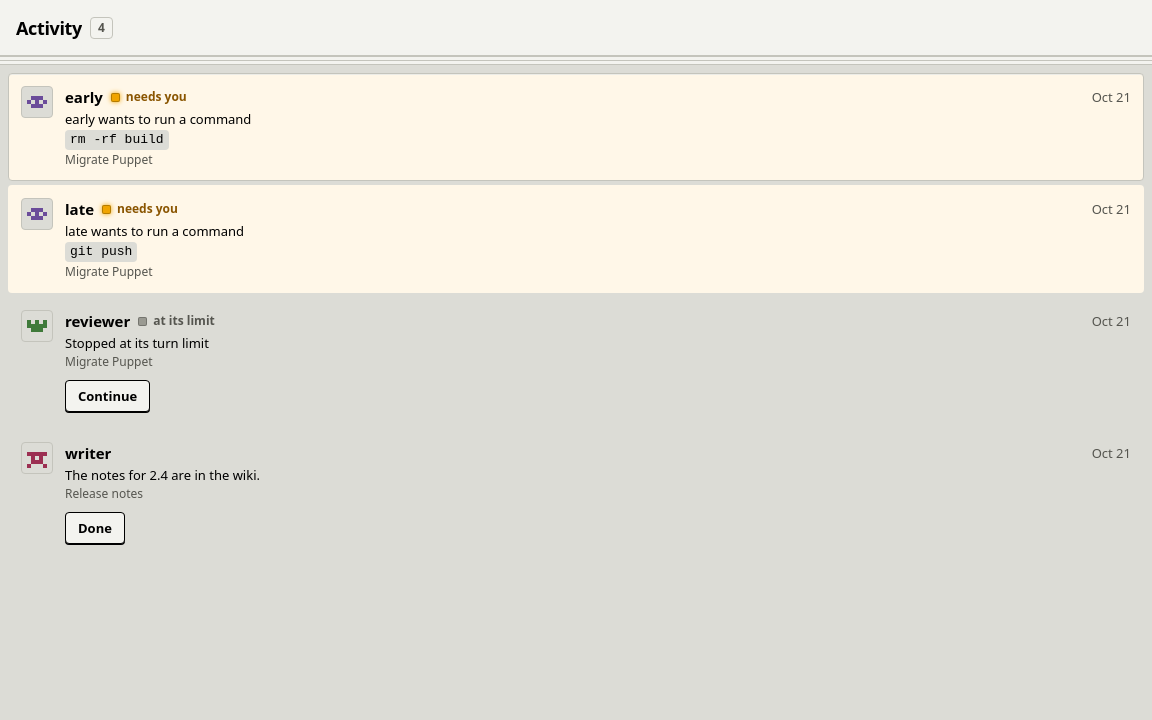
Test: a seat at its limit in Activity › says at its limit, not error, with the limit, and Continue goes on with the same run
Expected: the text with class "status-word" reads "at its limit", x1=153 y1=312 x2=215 y2=329
Expected: the text with class "inbox-text" reads "Stopped at its turn limit", x1=65 y1=334 x2=209 y2=352
Click the button with class "seat-again".
click(108, 396)  # box x1=65 y1=380 x2=150 y2=412
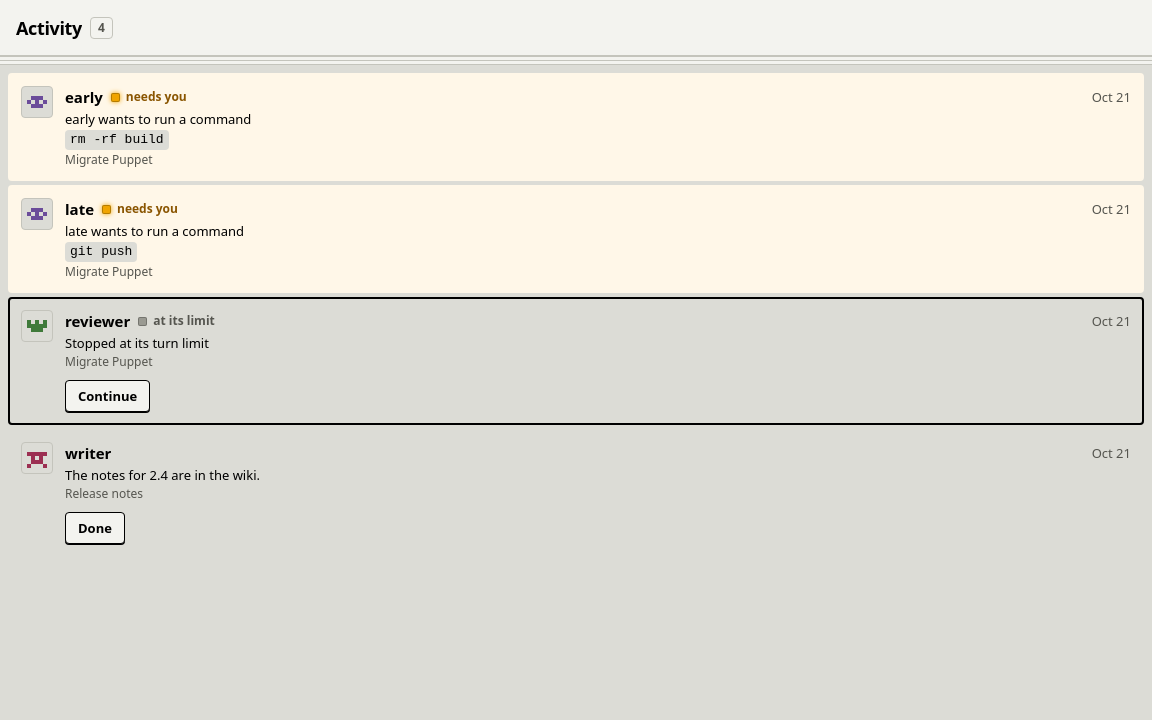
Press c in the element with class "inbox-row" that starts with "reviewer", box x1=8 y1=297 x2=1144 y2=425
(page scrolled)
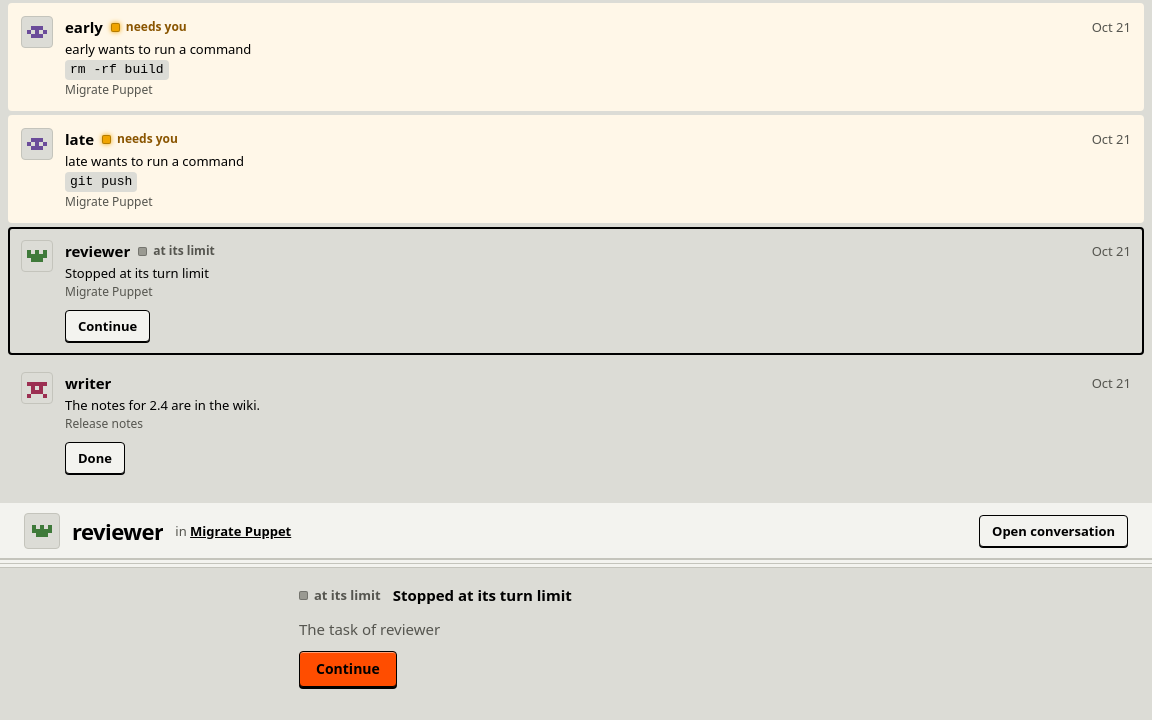
Expected: the 2nd text with class "status-word" reads "at its limit", x1=314 y1=586 x2=381 y2=604
Expected: the text with class "inbox-reason" reads "Stopped at its turn limit", x1=393 y1=585 x2=572 y2=605
Expected: the button with class "seat-again" below "The task of reviewer" reads "Continue", x1=299 y1=651 x2=397 y2=687
